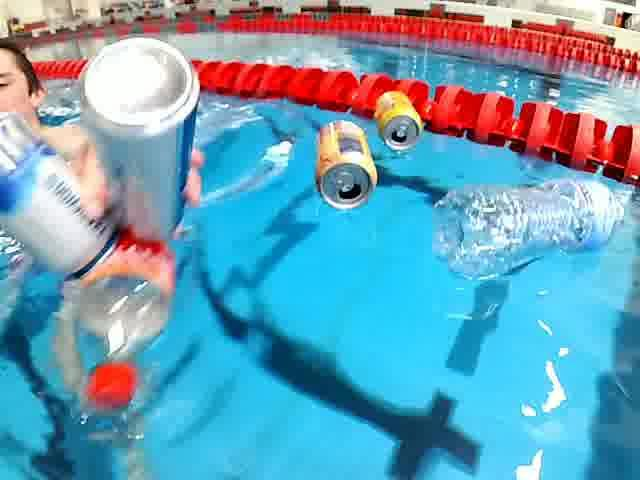Bottle: (421, 172, 639, 286), (67, 219, 180, 416)
Can: (80, 27, 197, 247), (0, 109, 128, 286), (310, 119, 381, 217), (370, 88, 426, 159)
